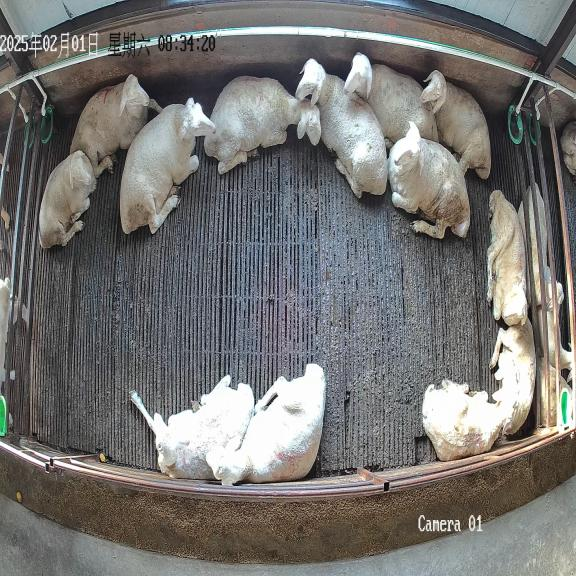lying: (207, 364, 325, 485), (130, 375, 254, 480), (120, 98, 215, 233), (296, 59, 387, 198), (204, 76, 321, 174), (388, 121, 470, 238), (70, 74, 162, 178), (344, 52, 439, 146), (421, 70, 491, 179), (422, 380, 515, 461), (39, 150, 97, 248), (486, 190, 527, 326), (489, 318, 536, 434)
